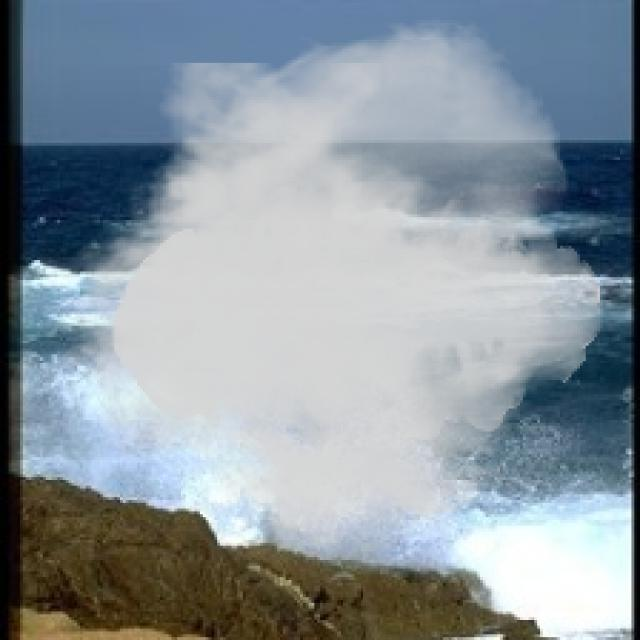smoke: (57, 14, 603, 560)
